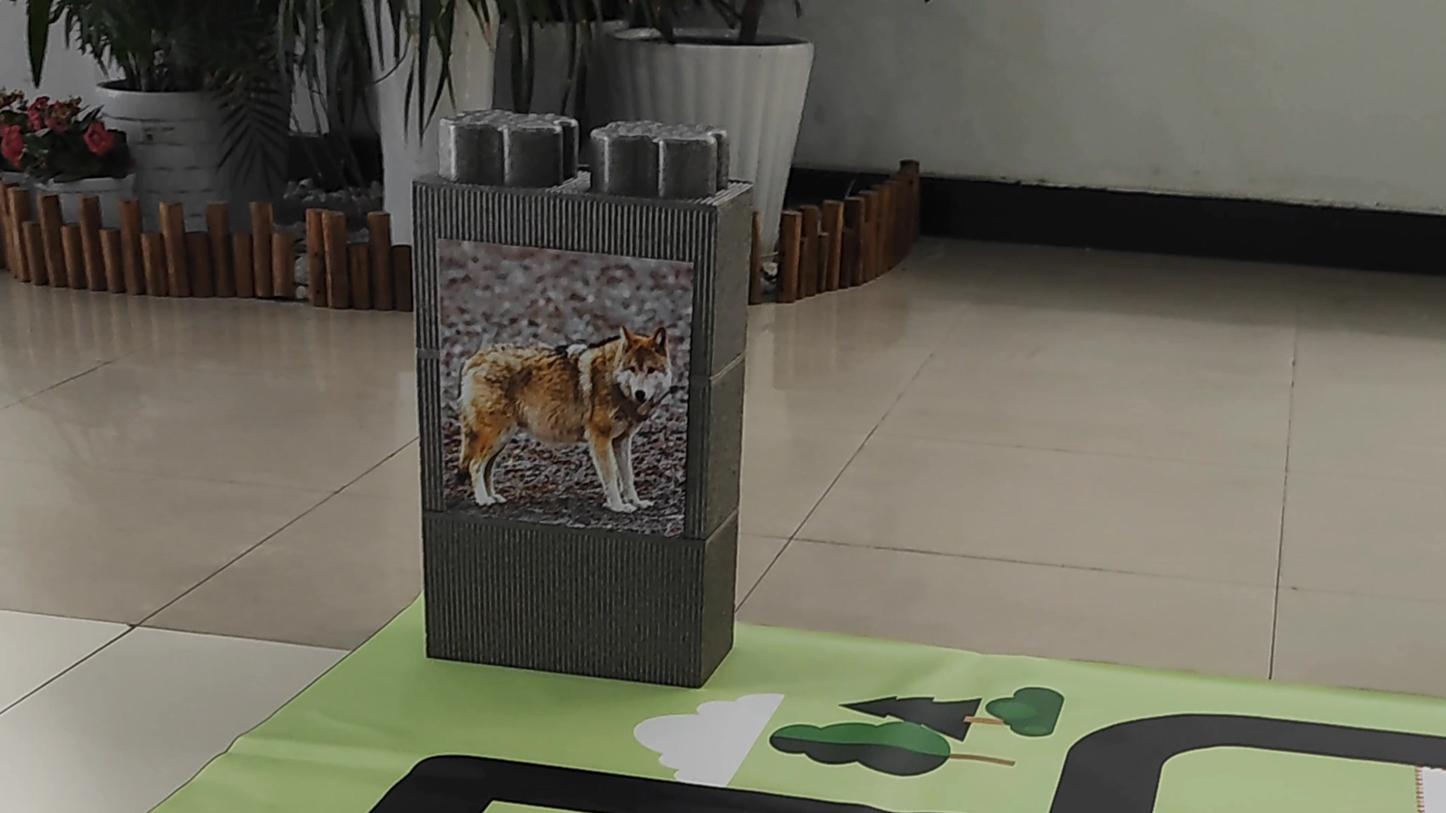wolf: (444, 324, 693, 541)
